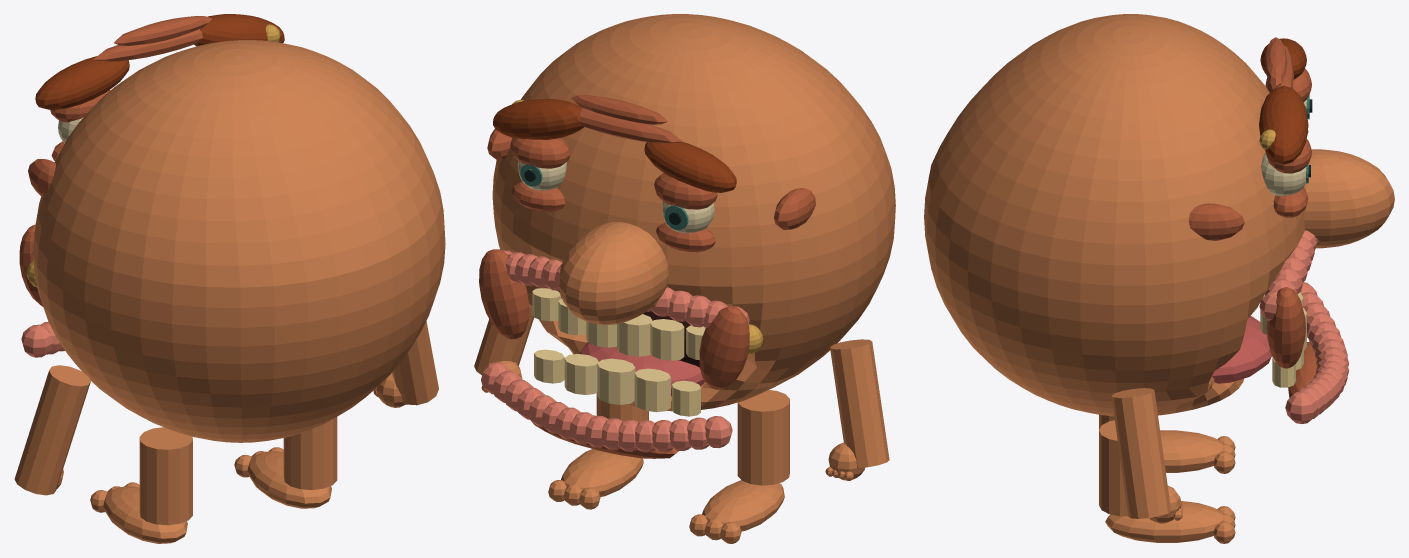
3 views of the same model, side by side, from view 1: azimuth 30°, elevation 25°; view 2: azimuth 150°, elevation 25°; view 3: azimuth 270°, elevation 25° (orthographic). The views are drawn at different scales.
Size of the model in its own units: 0.9296 by 1 by 0.91.
